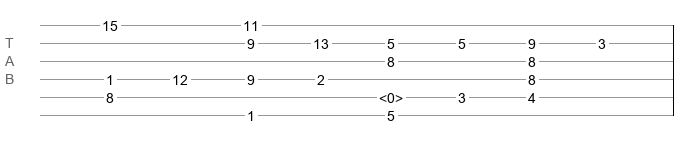1: (106, 72, 114, 82), (247, 108, 255, 118)
11: (243, 18, 259, 28)
12: (172, 72, 188, 82)
13: (313, 36, 329, 46)
15: (102, 18, 118, 28)
2: (317, 72, 325, 82)
3: (458, 90, 466, 100), (598, 36, 606, 46)
4: (528, 90, 536, 100)
5: (387, 108, 395, 118), (387, 36, 395, 46), (458, 36, 466, 46)
8: (106, 90, 114, 100), (387, 54, 395, 64), (528, 72, 536, 82), (528, 54, 536, 64)
9: (247, 72, 255, 82), (247, 36, 255, 46), (528, 36, 536, 46)
harmonic: (379, 90, 403, 100)
